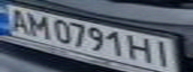0: (48, 17, 72, 44)
1: (103, 29, 127, 57)
7: (66, 20, 87, 48)
9: (84, 25, 106, 53)
A: (3, 7, 33, 34)
H: (127, 34, 157, 63)
I: (148, 38, 178, 69)
M: (24, 11, 54, 38)
